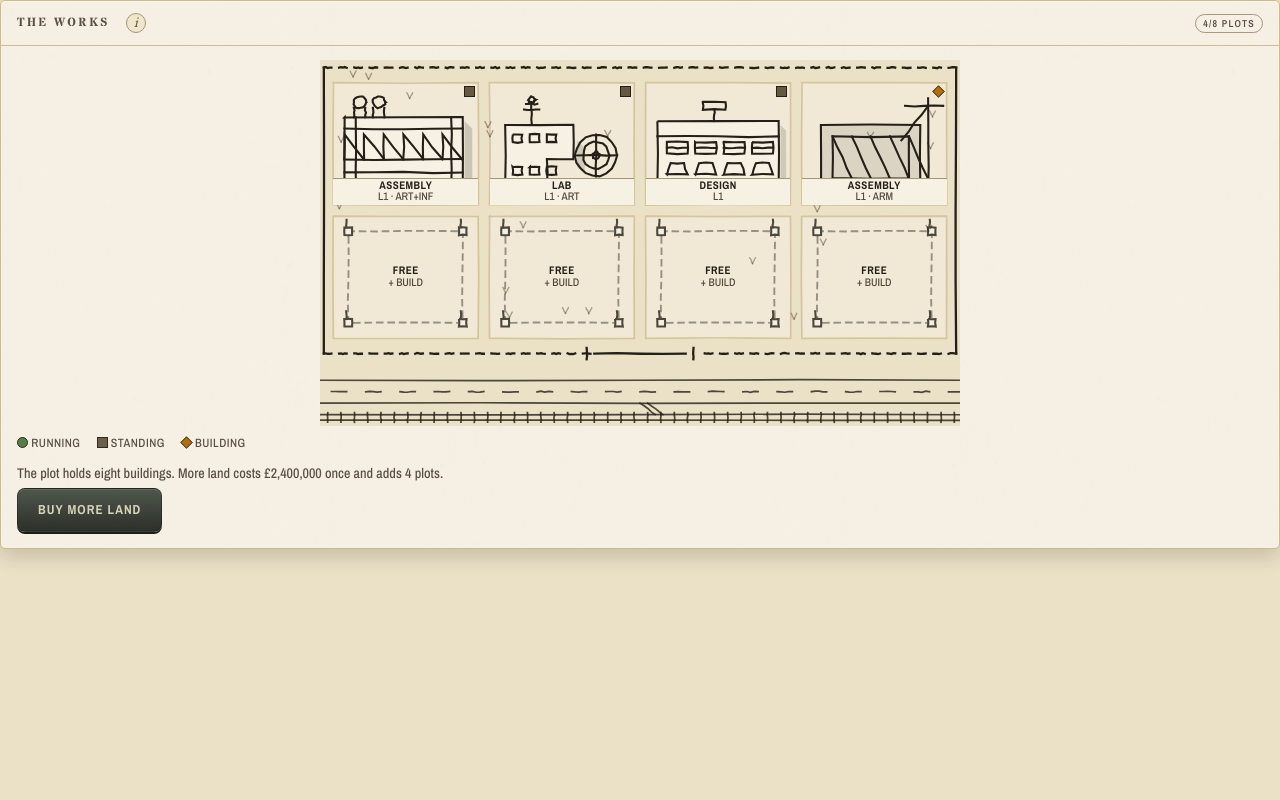
Test: anläggningskortet och Books (P185) › kortet visar lånet: utestående, räntan och att verket är säkerhet
This screenshot has width=1280, height=800.
Step 1. Click the button "ASSEMBLY L1 · ARM" → (874, 144), box [802,83,947,205]
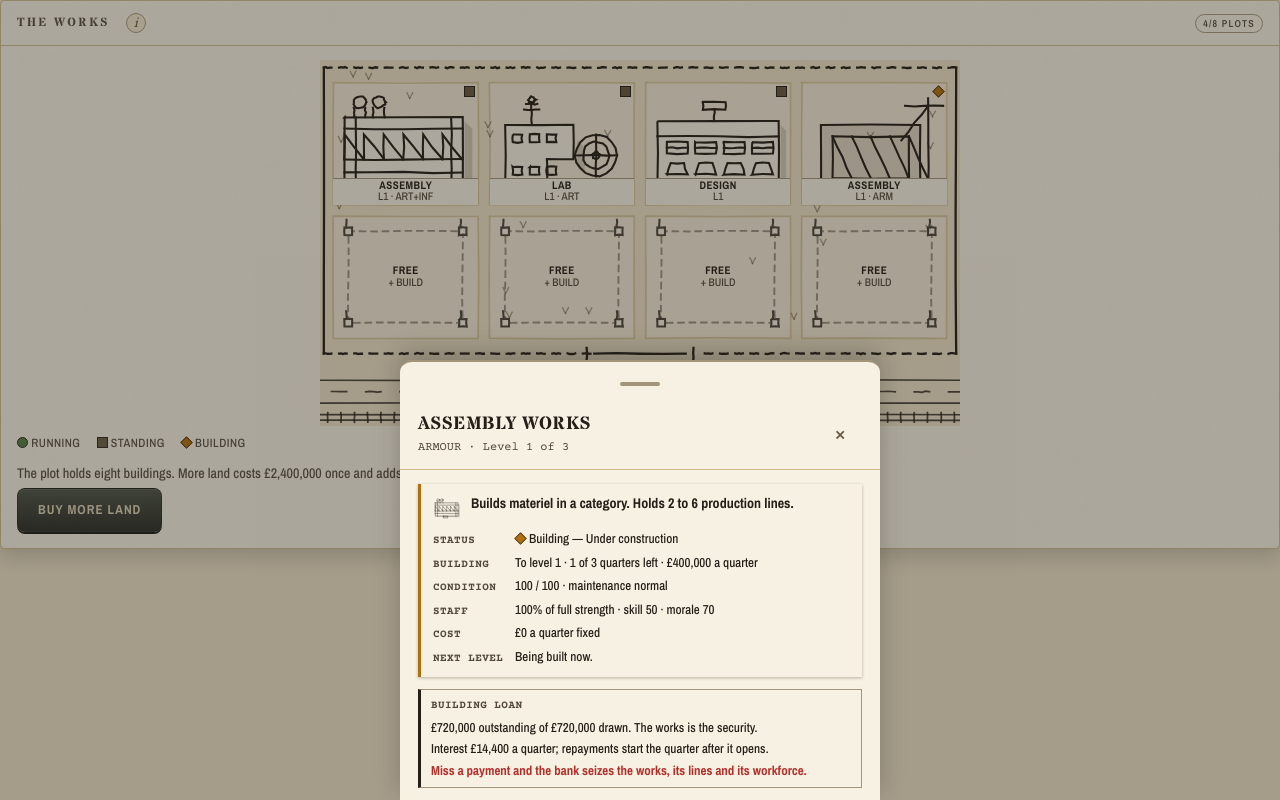
Check: the element with test id "facility-loan" shows "Building loan", box [431,699,522,712]
Check: the text with test id "facility-loan-outstanding" shows "security", box [596,718,758,736]
Check: the text with test id "facility-loan-payment" shows "Interest", box [431,740,769,757]
